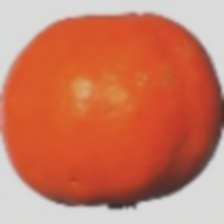tangerine: (37, 28, 188, 224)
